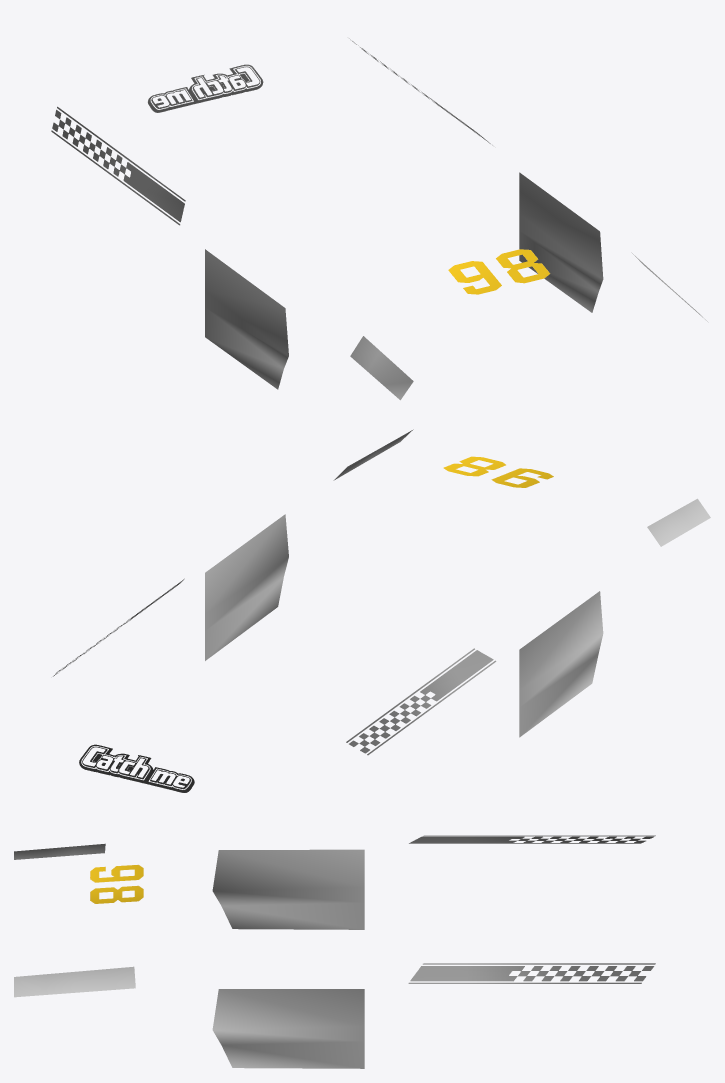
The model's file is Car_11_Decals.fbx.
3 renders of one model, top to bottom at view 1: azimuth 30°, elevation 25°; view 2: azimuth 150°, elevation 25°; view 3: azimuth 270°, elevation 25°, orthographic. The views are drawn at different scales.
Parts seen in each view (by area): view 1: Car_11_Decals; view 2: Car_11_Decals; view 3: Car_11_Decals.
Boxes of the visible parts, box(x1,y1,x2,y2) form: Car_11_Decals: box(51, 38, 708, 400); Car_11_Decals: box(53, 429, 710, 792); Car_11_Decals: box(14, 835, 655, 1068).
Size of the model in its own units: 195 by 408 by 78.04.
